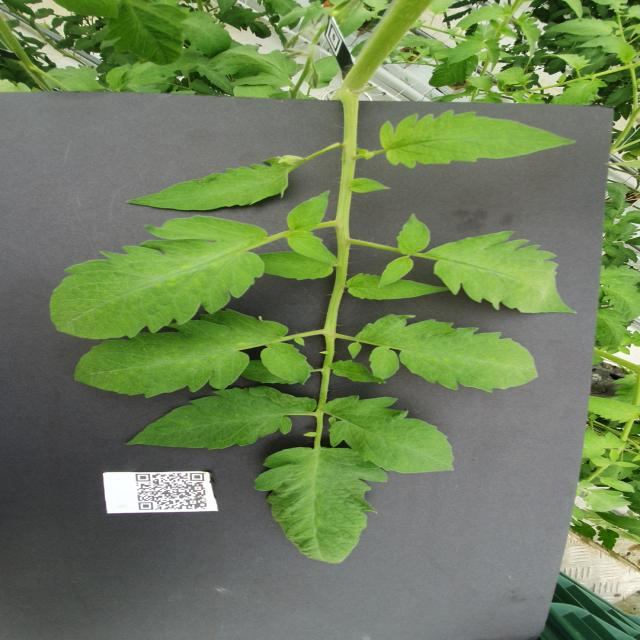Healthy Leaf: (50, 216, 265, 341), (76, 311, 291, 398), (253, 448, 390, 565), (356, 315, 541, 394), (124, 386, 319, 453), (426, 231, 579, 315), (381, 110, 578, 170), (324, 396, 461, 475), (125, 155, 292, 212), (102, 1, 189, 67), (207, 45, 299, 89), (349, 273, 451, 301), (182, 11, 233, 60), (255, 251, 334, 281), (261, 343, 313, 387), (287, 189, 333, 234), (430, 55, 480, 88), (286, 231, 334, 265), (447, 33, 490, 70), (396, 213, 433, 256), (545, 17, 621, 37), (555, 79, 609, 107), (602, 284, 640, 323), (589, 397, 640, 424), (331, 361, 387, 385), (598, 310, 632, 349), (377, 256, 417, 289), (596, 512, 640, 537), (601, 478, 637, 494)
